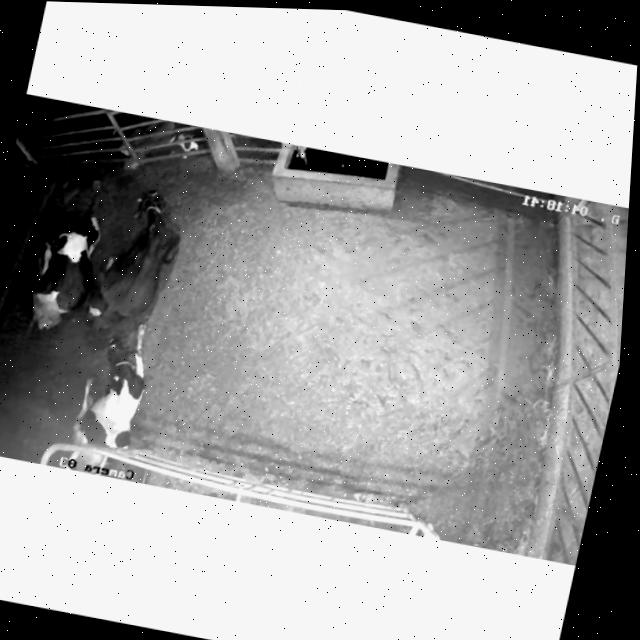lay: (4, 141, 122, 353), (81, 173, 213, 349), (55, 307, 168, 475)
